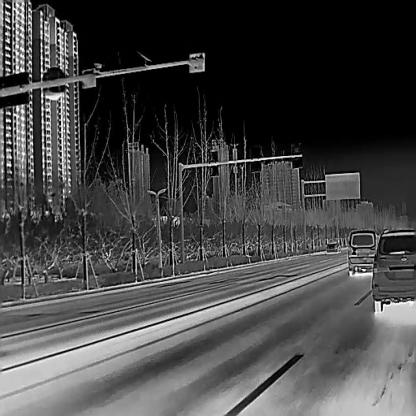car: (370, 228, 416, 310), (346, 228, 378, 276), (324, 239, 340, 253)
